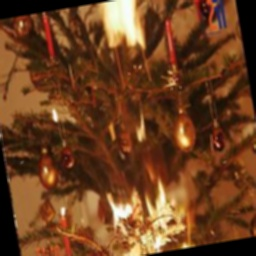fire: (102, 163, 199, 252)
